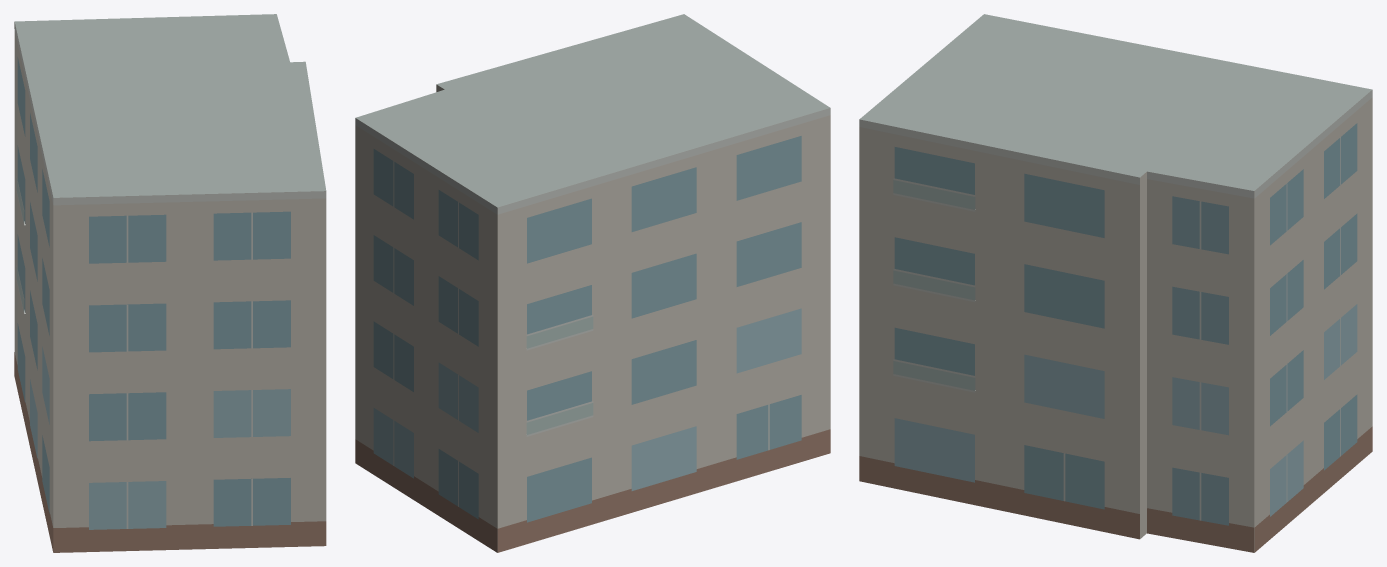
File: survey-upis-32657594.glb
3 views of the same model, side by side, from view 1: azimuth 30°, elevation 25°; view 2: azimuth 150°, elevation 25°; view 3: azimuth 270°, elevation 25° (orthographic). The views are drawn at different scales.
Visible parts, largest first — view 1: survey-upis-32657594.tmp; view 2: survey-upis-32657594.tmp; view 3: survey-upis-32657594.tmp.
Part boxes in pixels (x1,y1,x2,y2): survey-upis-32657594.tmp: (14,14,326,552); survey-upis-32657594.tmp: (355,14,830,552); survey-upis-32657594.tmp: (859,14,1372,552).
Bounding box in the file's own units: 12.29 × 11.7 × 15.05.
